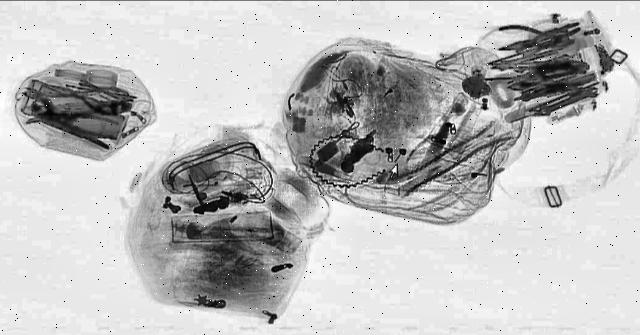Pliers: (9, 80, 111, 122), (488, 21, 580, 63), (32, 104, 130, 140), (492, 25, 580, 57)
Wrench: (534, 86, 604, 116), (72, 76, 138, 104)
